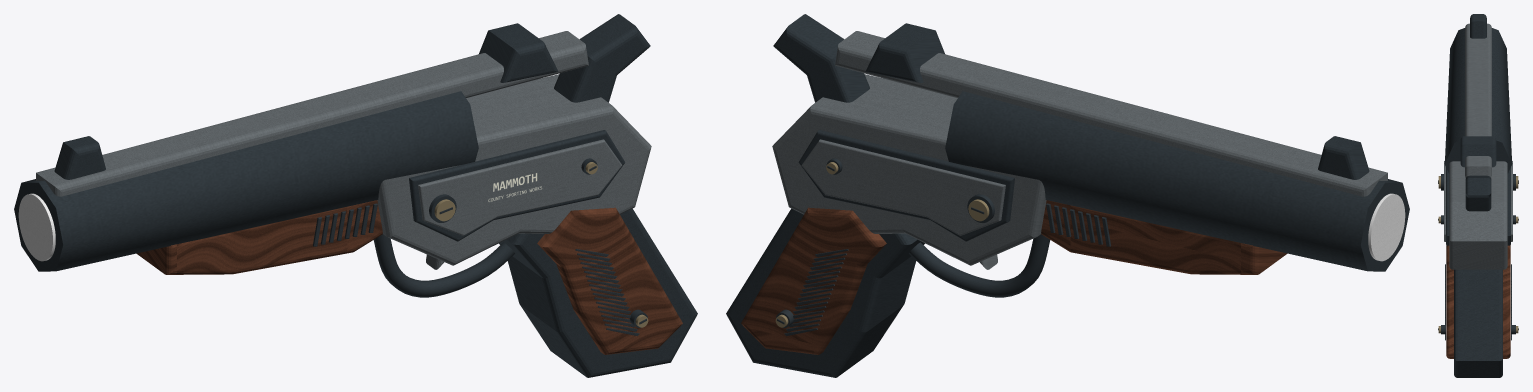
3 views of the same model, side by side, from view 1: azimuth 30°, elevation 25°; view 2: azimuth 150°, elevation 25°; view 3: azimuth 270°, elevation 25° (orthographic). The views are drawn at different scales.
Bounding box in the file's own units: 2.1 × 1.08 × 0.3949.
Materials: 7 (7 with a texture image).
